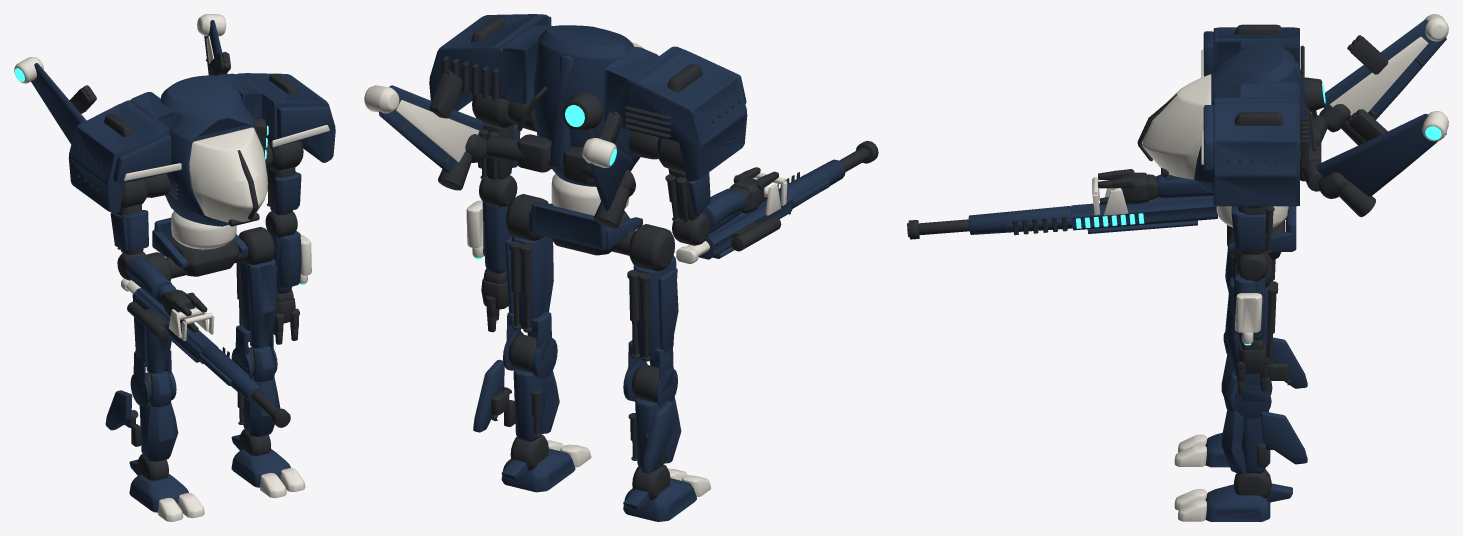
File: Titan_L1.fbx
3 renders of one model, left to right at view 1: azimuth 30°, elevation 25°; view 2: azimuth 150°, elevation 25°; view 3: azimuth 270°, elevation 25°, orthographic. The views are drawn at different scales.
Visible parts, largest first — view 1: L1_Mantle_R, L1_Torso_Upper, L1_Hatch, L1_Mantle_L, L1_Thigh_Plate_L, L1_Pelvis, L1_Wing_R, L1_Waist, L1_Shin_Plate_R, L1_Rifle_Shroud, L1_Rifle_Receiver, L1_Foot_R (+39 smaller); view 2: L1_Mantle_R, L1_Torso_Upper, L1_Mantle_L, L1_Collar, L1_Wing_L, L1_Wing_Top_L, L1_Wing_Boom_L, L1_Thigh_Clevis_L, L1_Thigh_Hub_R, L1_Shin_L, L1_Rifle_Receiver, L1_Foot_L (+46 smaller); view 3: L1_Mantle_L, L1_Hatch, L1_Wing_L, L1_Torso_Upper, L1_Rifle_Receiver, L1_Wing_R, L1_Mantle_R, L1_Wing_Top_R, L1_Rifle_Shroud, L1_Foot_L, L1_Calf_Blade_L, L1_Thigh_Clevis_L (+23 smaller).
Part boxes in pixels (<box>): L1_Mantle_R: <box>68,92,176,213</box>; L1_Torso_Upper: <box>160,75,262,226</box>; L1_Hatch: <box>189,127,267,222</box>; L1_Mantle_L: <box>217,73,335,162</box>; L1_Thigh_Plate_L: <box>247,259,277,348</box>; L1_Pelvis: <box>166,236,248,278</box>; L1_Wing_R: <box>31,63,86,143</box>; L1_Waist: <box>171,211,236,249</box>; L1_Shin_Plate_R: <box>146,402,178,461</box>; L1_Rifle_Shroud: <box>198,345,263,403</box>; L1_Rifle_Receiver: <box>133,288,218,363</box>; L1_Foot_R: <box>129,474,188,512</box>; L1_Mantle_R: <box>604,46,747,181</box>; L1_Torso_Upper: <box>534,25,640,186</box>; L1_Mantle_L: <box>429,14,552,110</box>; L1_Collar: <box>529,202,642,250</box>; L1_Wing_L: <box>379,85,483,172</box>; L1_Wing_Top_L: <box>396,100,479,162</box>; L1_Wing_Boom_L: <box>486,134,554,172</box>; L1_Thigh_Clevis_L: <box>503,312,557,379</box>; L1_Thigh_Hub_R: <box>629,224,674,271</box>; L1_Shin_L: <box>513,368,543,441</box>; L1_Rifle_Receiver: <box>698,191,792,259</box>; L1_Foot_L: <box>501,448,575,492</box>; L1_Mantle_L: <box>1203,83,1299,206</box>; L1_Hatch: <box>1142,74,1211,179</box>; L1_Wing_L: <box>1316,113,1446,196</box>; L1_Torso_Upper: <box>1194,41,1306,193</box>; L1_Rifle_Receiver: <box>1071,196,1217,233</box>; L1_Wing_R: <box>1324,19,1446,119</box>; L1_Mantle_R: <box>1203,27,1299,76</box>; L1_Wing_Top_R: <box>1330,36,1428,115</box>; L1_Rifle_Shroud: <box>968,206,1072,234</box>; L1_Foot_L: <box>1205,484,1270,521</box>; L1_Calf_Blade_L: <box>1261,411,1307,464</box>; L1_Thigh_Clevis_L: <box>1234,373,1272,418</box>.
Bounding box in the file's own units: 3.56 × 5.81 × 6.63.
